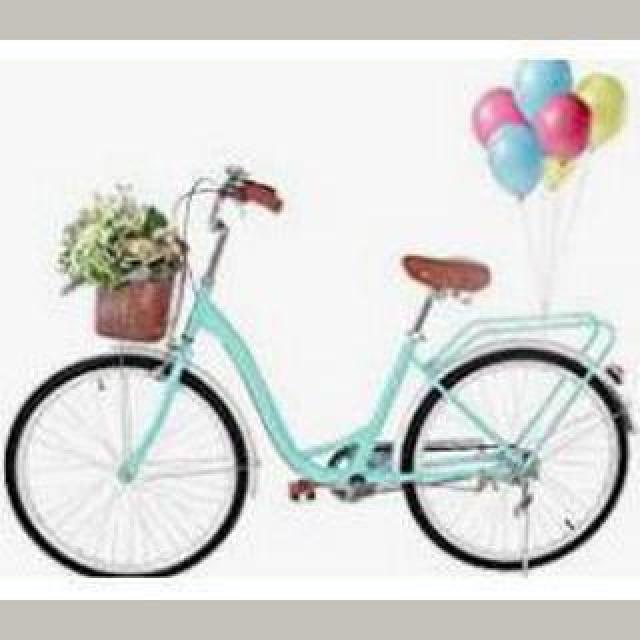Person: (3, 161, 635, 577)
